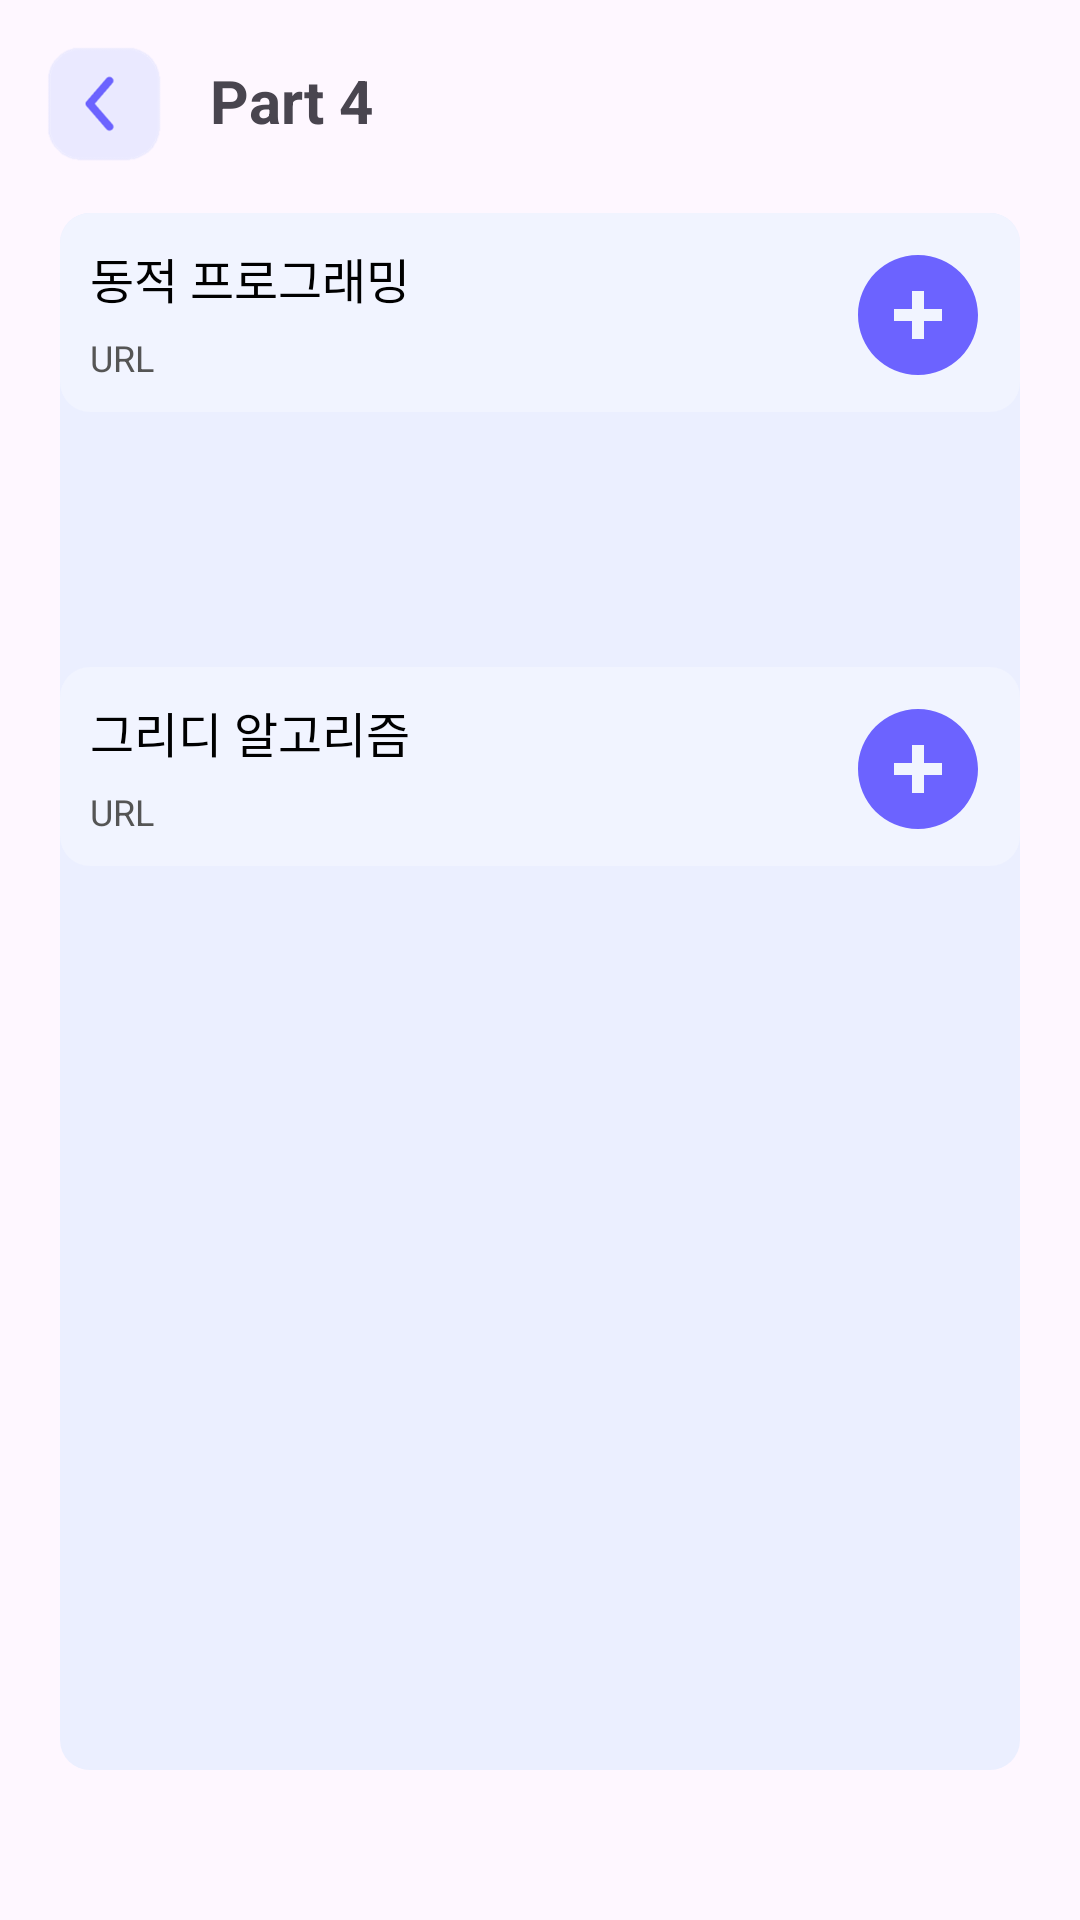

Icon bounding boxes for this 1080x1920 phone screenshot, format (x1=x1, y1=y1, x2=x2, y2=y2):
Go back: (x1=48, y1=48, x2=160, y2=160)
plus: (x1=858, y1=255, x2=978, y2=375), (x1=858, y1=709, x2=978, y2=829)
